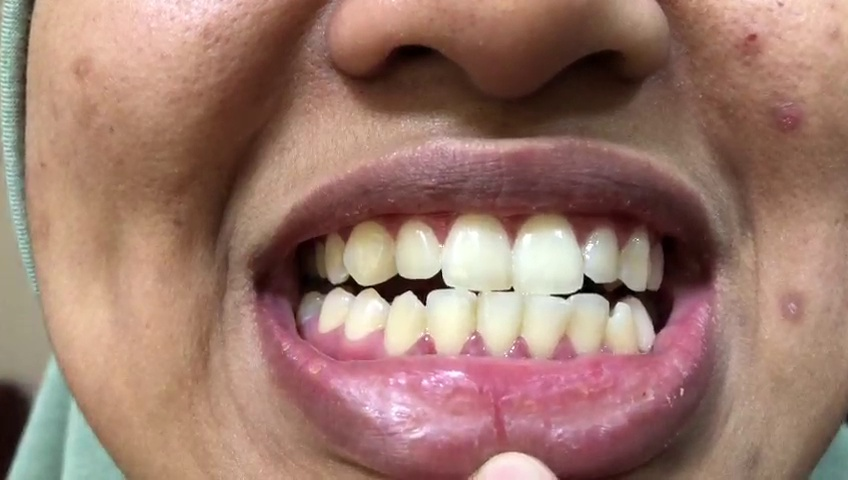1st Molar: (297, 291, 326, 328)
1st Premolar: (344, 287, 388, 344), (623, 297, 656, 356), (324, 226, 348, 285), (650, 240, 667, 295)
2nd Premolar: (317, 287, 353, 337)
Canine: (344, 219, 393, 289), (384, 290, 426, 361), (620, 226, 651, 292), (604, 301, 639, 357)
Central Incisor: (513, 210, 584, 296), (439, 212, 513, 294), (522, 296, 570, 357), (480, 292, 523, 358)
Lateral Incisor: (427, 287, 481, 359), (387, 220, 442, 282), (570, 291, 609, 353), (583, 219, 619, 285)
